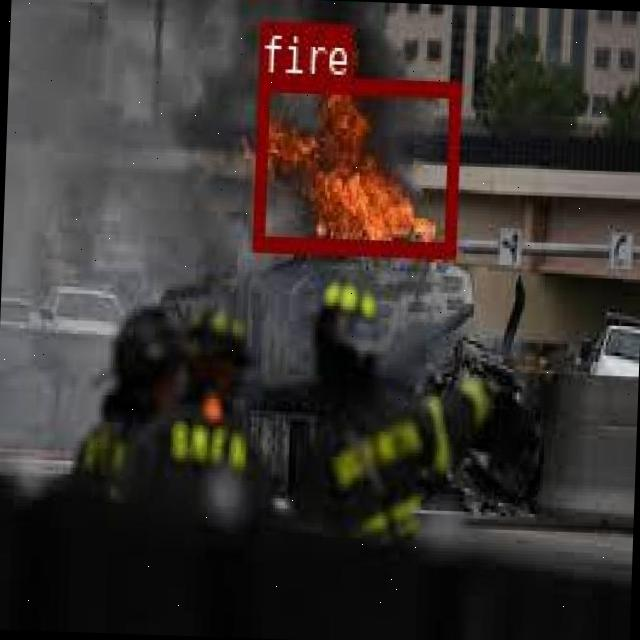fire: (250, 72, 458, 254)
